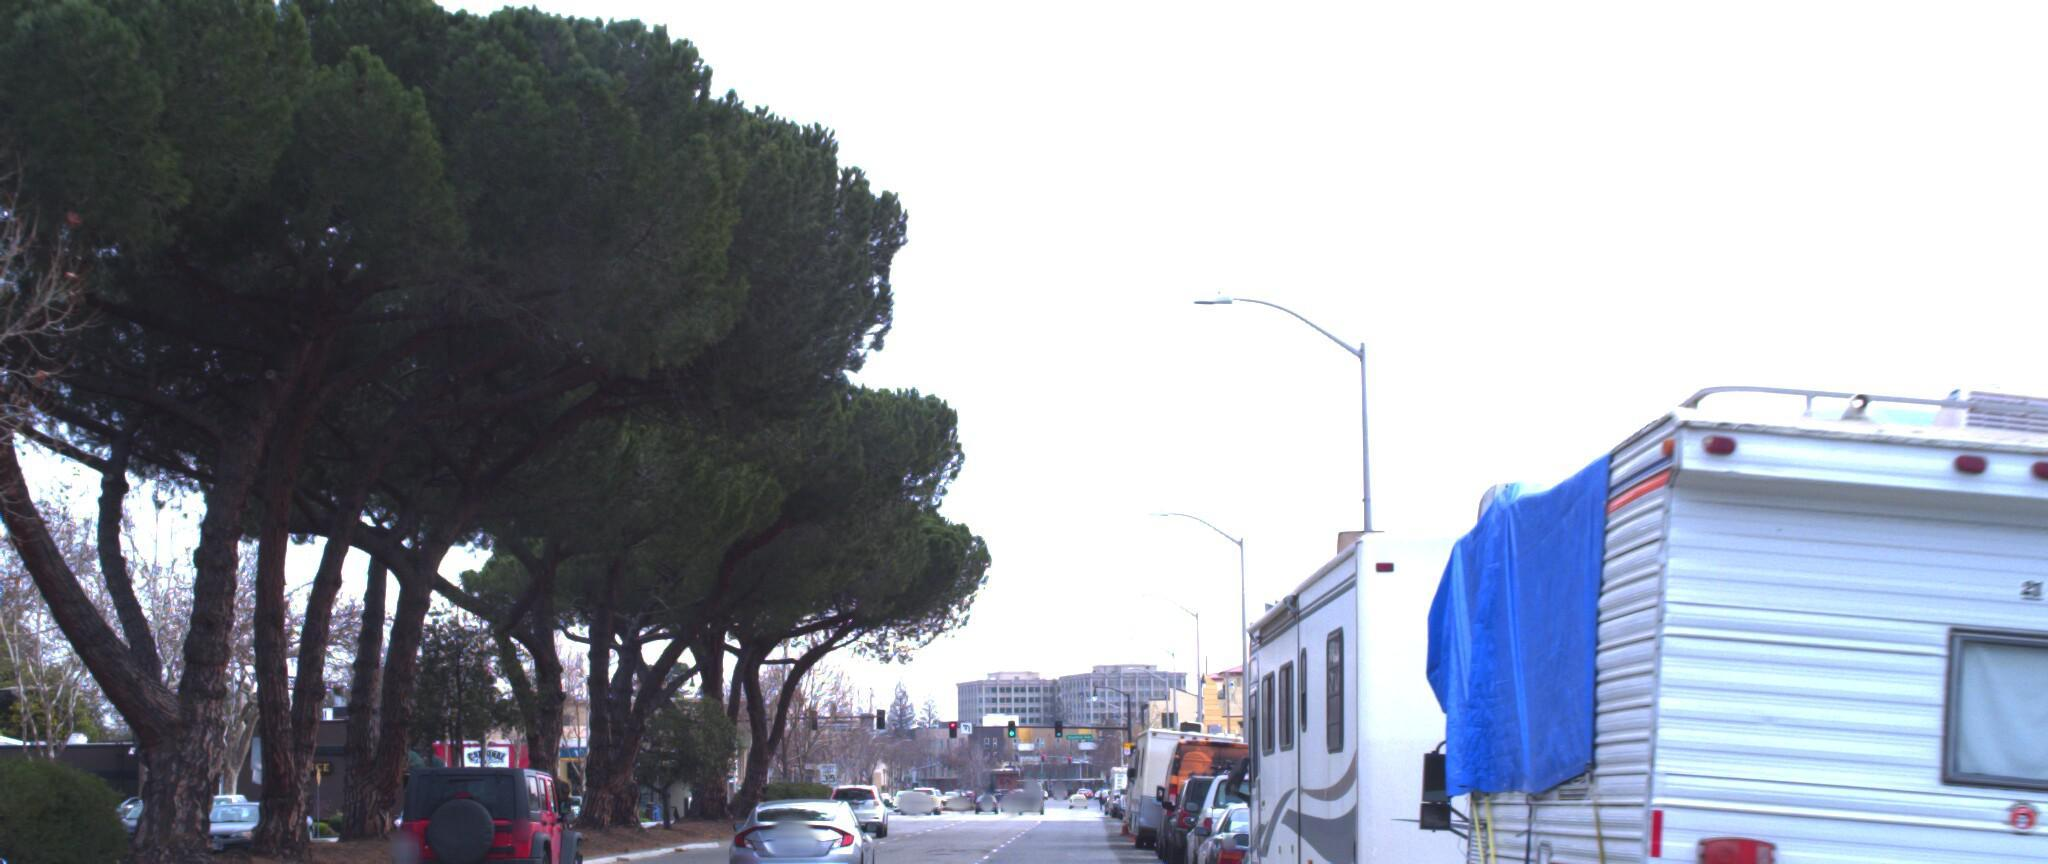car: (381, 749, 583, 864), (1156, 733, 1267, 863), (1179, 788, 1352, 864), (700, 782, 846, 864), (0, 752, 74, 864)
other_vehicle: (1403, 312, 2048, 864), (1226, 436, 1836, 864), (1126, 720, 1240, 850)
